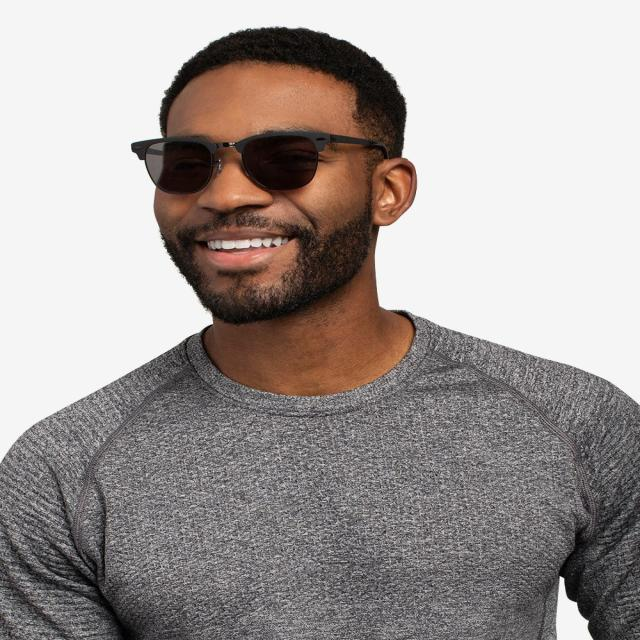2_gafas: (130, 129, 390, 195)
